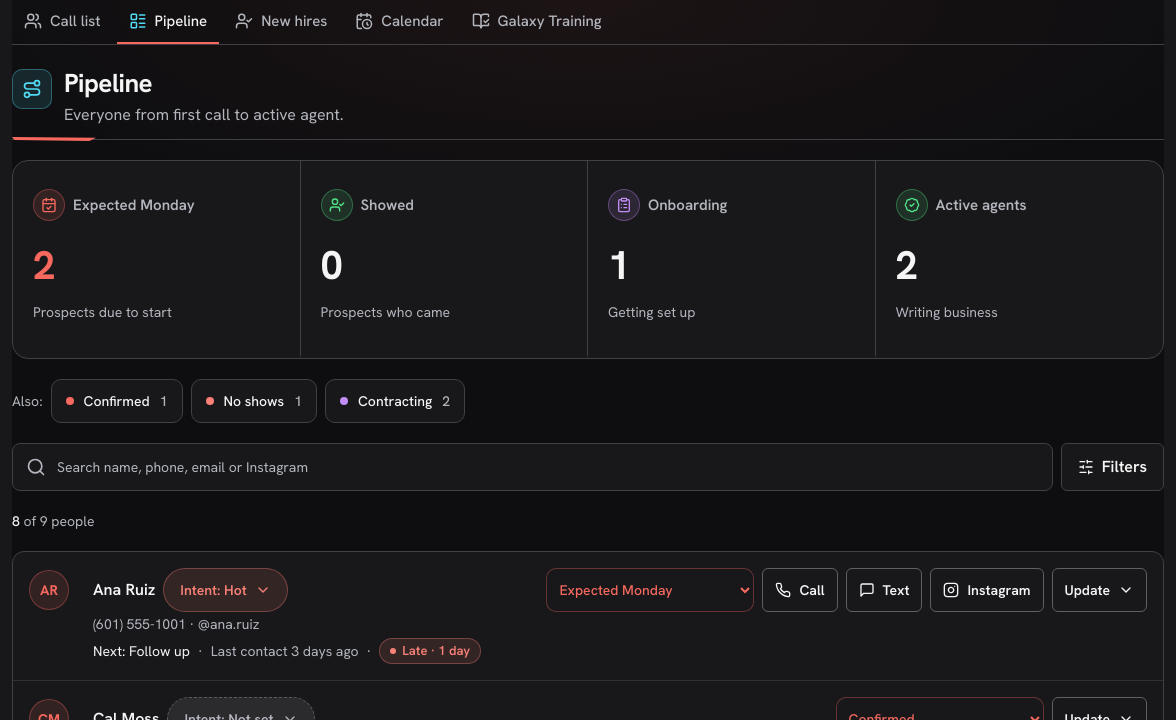
Test case: Recruiting Pipeline › counts Contracting over both contracting stages and its list shows the same people
Expected: the text "Ana Ruiz" is shown, [93,578,155,602]
Click the button "Contracting 2".
click(395, 401)  # box [325,379,465,423]
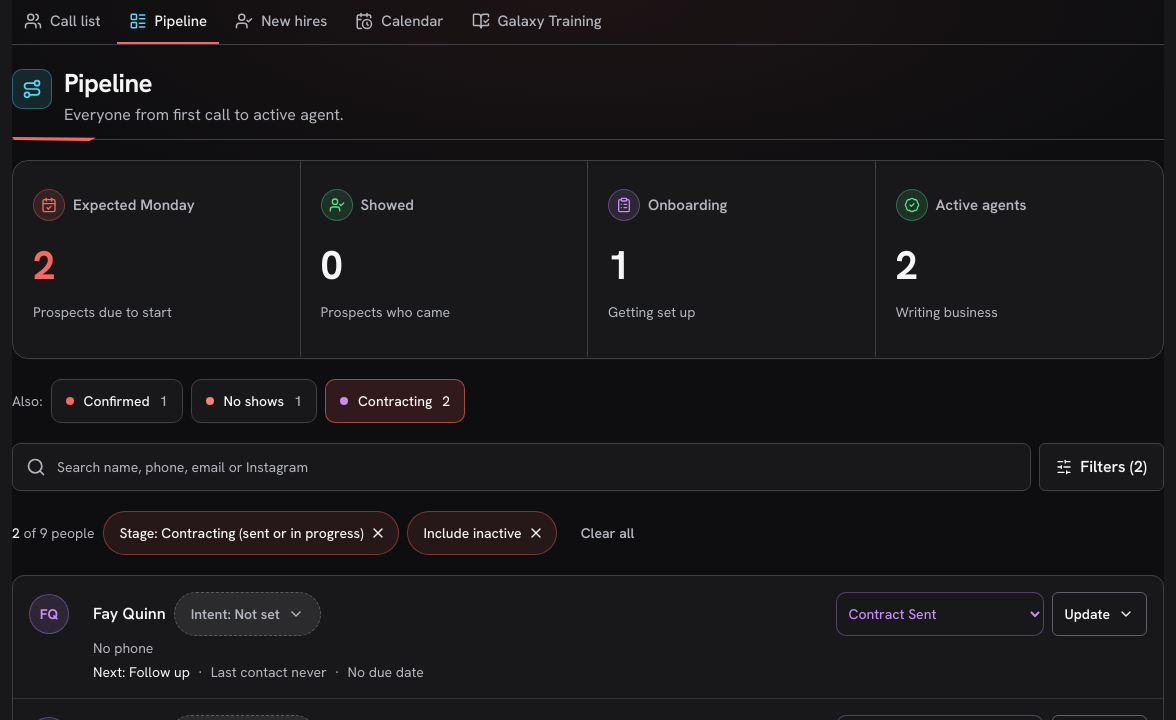
Expected: the element showing "2 of 9 people" is shown, [12,523,95,543]
Expected: the button with aria-label "Remove Stage: Contracting (sent or in progress) filter" is shown, [103,511,398,555]
